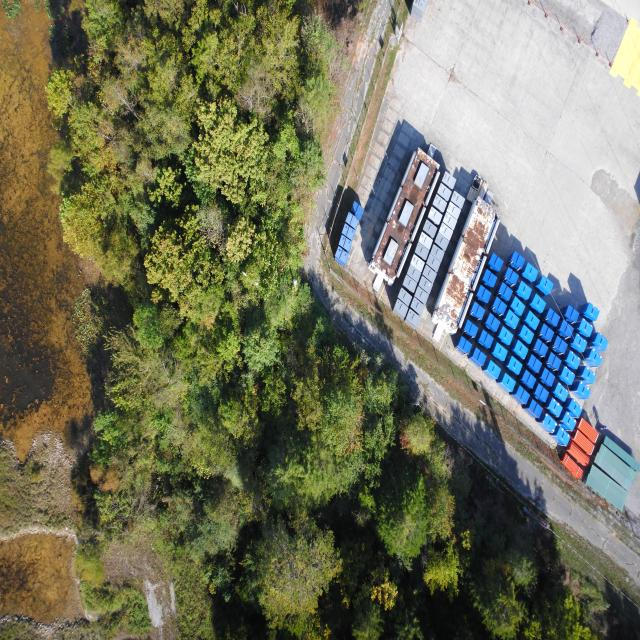Area of Interest: (80, 10, 582, 636)
